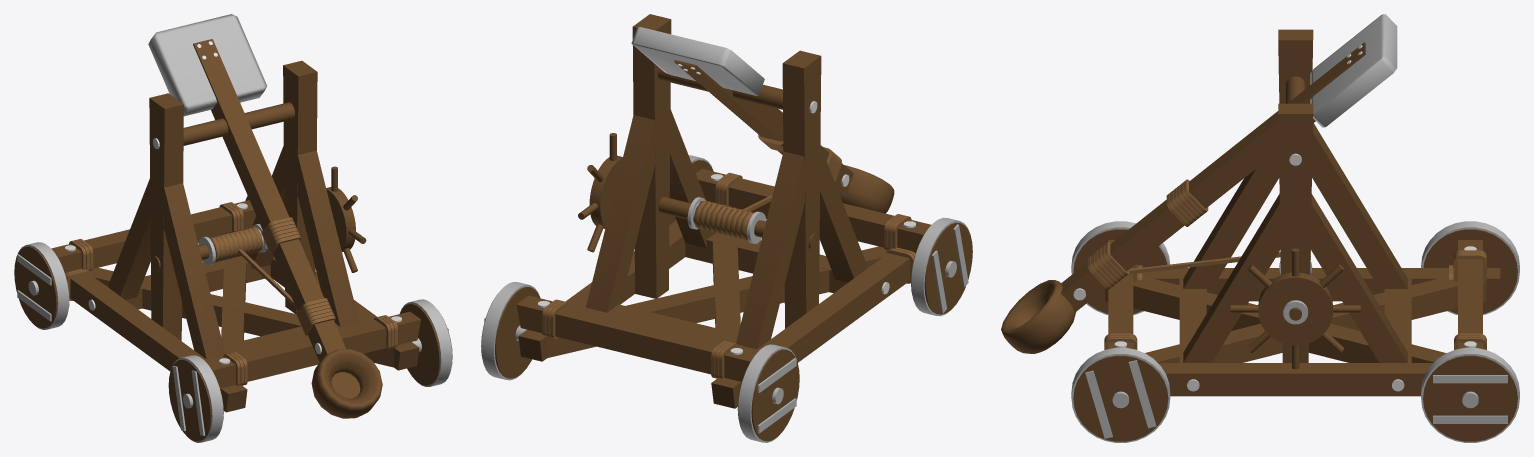
The model's file is Catapult.glb.
3 renders of one model, left to right at view 1: azimuth 30°, elevation 25°; view 2: azimuth 150°, elevation 25°; view 3: azimuth 270°, elevation 25°, orthographic. The views are drawn at different scales.
Visible parts, largest first — view 1: Root; view 2: Root; view 3: Root.
Boxes of the visible parts, <box> form: Root: <box>14,14,452,442</box>; Root: <box>481,14,972,442</box>; Root: <box>1001,14,1519,442</box>.
Bounding box in the file's own units: 1.62 × 1.89 × 2.6.
